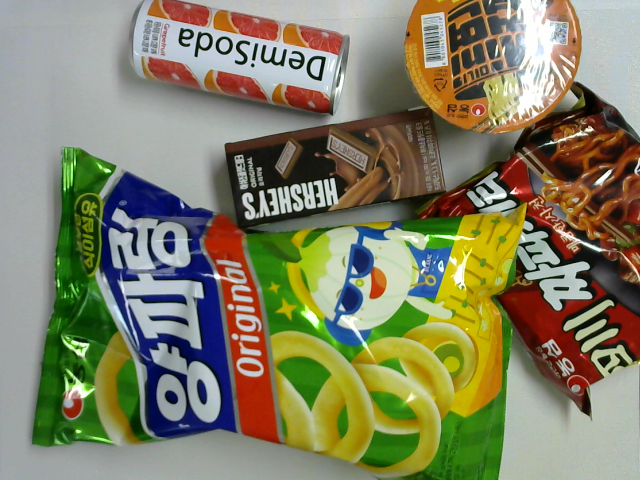Demisoda_Grapefruit_Can_250ml: (123, 1, 353, 119)
Hush_Choco_Drink: (222, 100, 446, 231)
Oninon_Ring: (30, 146, 532, 480)
Sichuan_Chapaghetti: (408, 80, 640, 424)
Udongmini: (401, 1, 587, 134)
